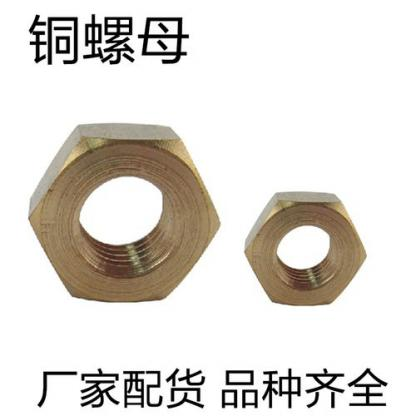FOD: (19, 117, 226, 308), (242, 187, 370, 311)
